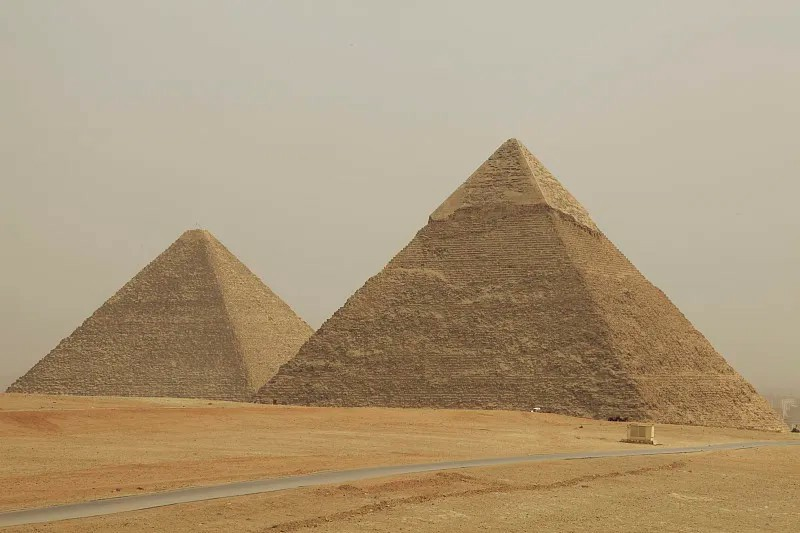Pyramid: (251, 139, 792, 435), (7, 230, 317, 402)
